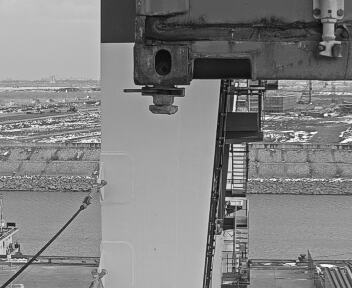twist_lock_1: (132, 76, 192, 124)
